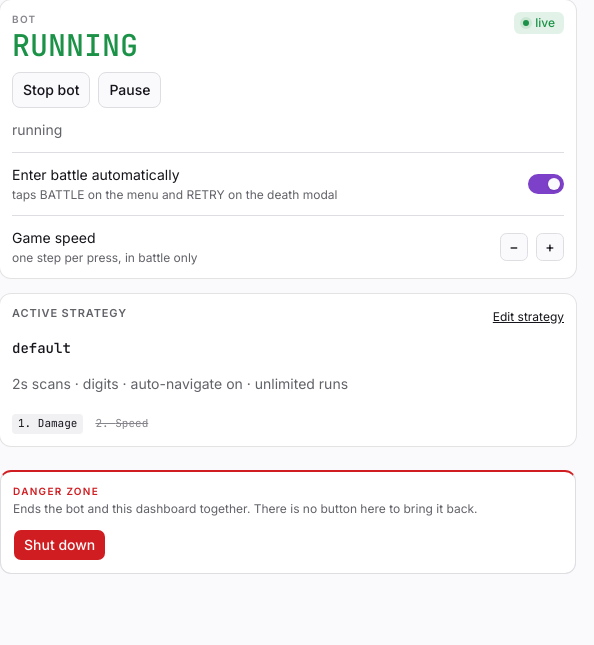
it: ControlPage › surfaces the server's reason on a rejected pause patch and leaves the displayed state unchanged
Click the button "Pause". click: [130, 90]
box: [98,72,162,108]
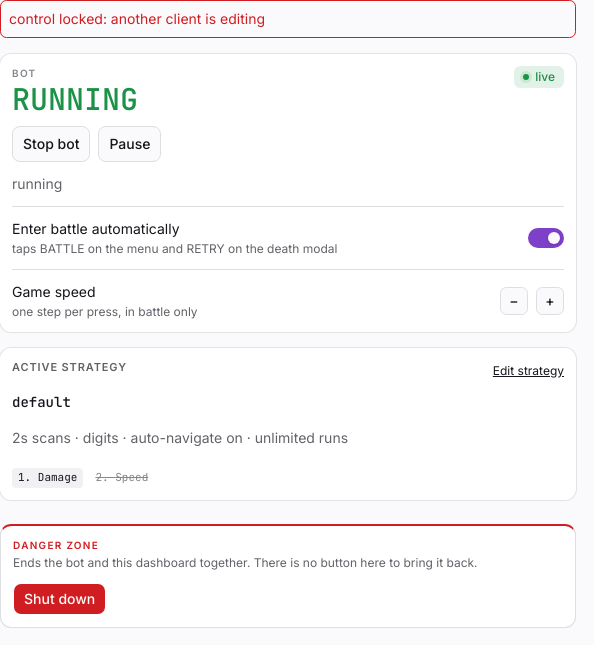
Expected: the button "Pause" is shown, [98,126,162,162]
Expected: the text "control locked: another client is editing" is shown, [0,0,576,38]
